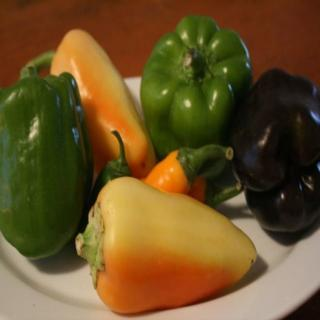Bell pepper: (0, 65, 96, 260), (142, 15, 254, 177), (236, 69, 320, 234)
